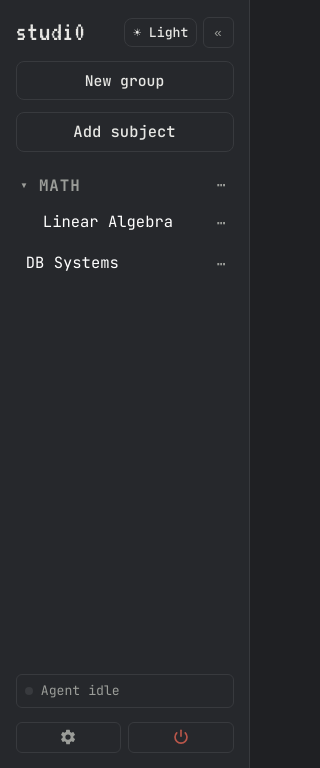
Test: Sidebar groups and menus › collapses a group and persists the state
The image size is (320, 768).
Click the button named "Collapse group MATH".
click(24, 185)  # box [16, 173, 32, 198]
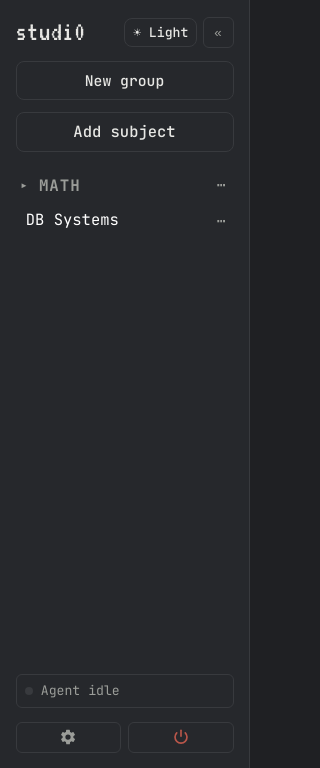
Expected: the button "Linear Algebra" is gone
Expected: the button named "Expand group MATH" is shown, [16, 173, 32, 198]
